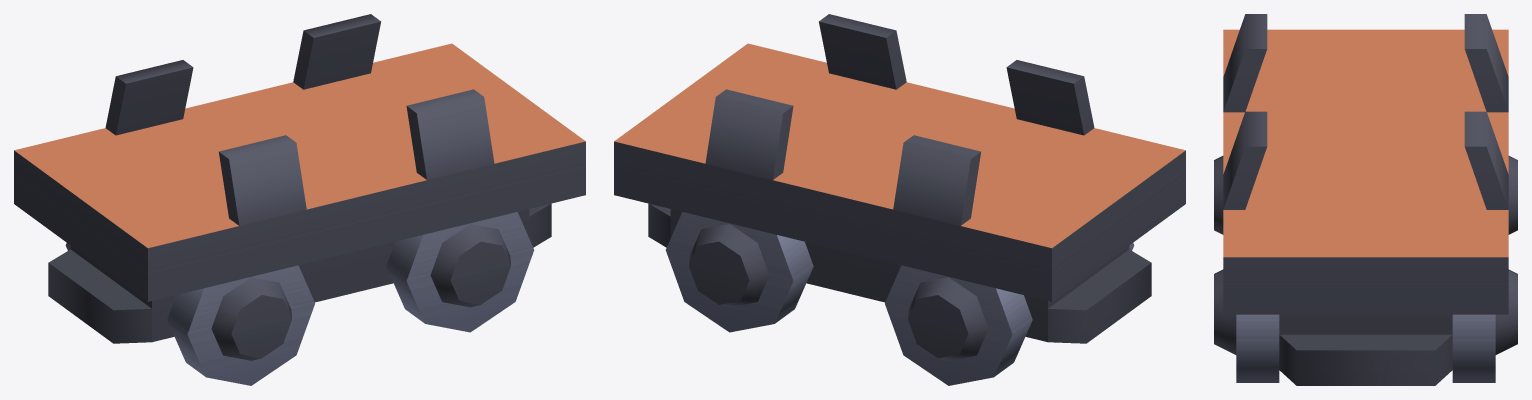
Rendered from train-wagon-flat-short.glb.
The picture shows the model from 3 angles, left to right: view 1: azimuth 30°, elevation 25°; view 2: azimuth 150°, elevation 25°; view 3: azimuth 270°, elevation 25°; orthographic projection. The views are drawn at different scales.
Visible parts, largest first — view 1: train-wagon-flat-short; view 2: train-wagon-flat-short; view 3: train-wagon-flat-short.
Boxes of the visible parts, bbox=[...] form: train-wagon-flat-short: bbox=[14, 14, 585, 385]; train-wagon-flat-short: bbox=[614, 14, 1185, 385]; train-wagon-flat-short: bbox=[1214, 14, 1517, 385].
Bounding box in the file's own units: 0.3457 × 0.172 × 0.1949.
Materials: 1 (1 with a texture image).
